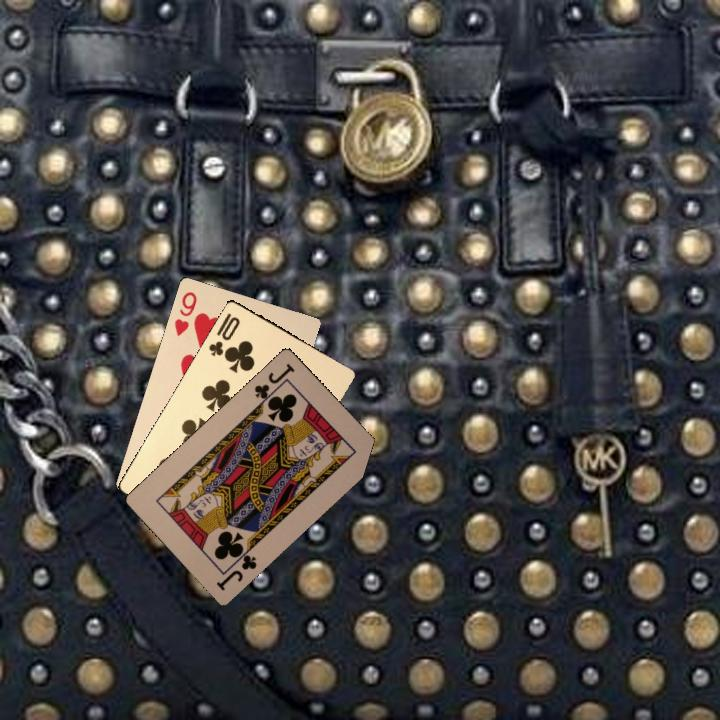10c: (204, 309, 243, 360)
9h: (170, 288, 199, 339)
Jc: (250, 359, 297, 408), (212, 544, 259, 593)
